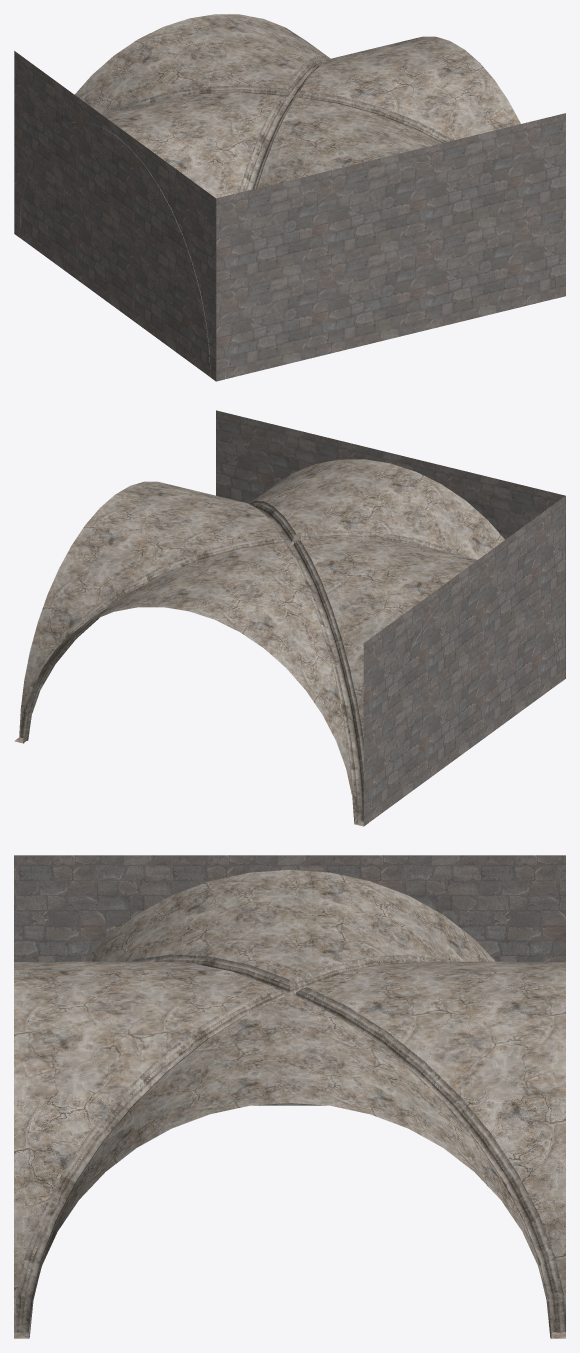
3 renders of one model, top to bottom at view 1: azimuth 30°, elevation 25°; view 2: azimuth 150°, elevation 25°; view 3: azimuth 270°, elevation 25°, orthographic. The views are drawn at different scales.
Parts seen in each view (by area): view 1: SM_RoomCeiling_2Walls_LOD0; view 2: SM_RoomCeiling_2Walls_LOD0; view 3: SM_RoomCeiling_2Walls_LOD0.
Part boxes in pixels (x1,y1,x2,y2): SM_RoomCeiling_2Walls_LOD0: (14,14,565,381); SM_RoomCeiling_2Walls_LOD0: (14,410,565,826); SM_RoomCeiling_2Walls_LOD0: (14,855,565,1338).
Bounding box in the file's own units: 6 × 3 × 6.
3 materials, 3 textured.
